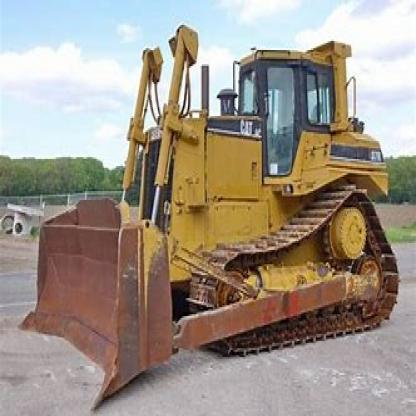bull_dozer/loader/grader: (25, 20, 401, 398)
